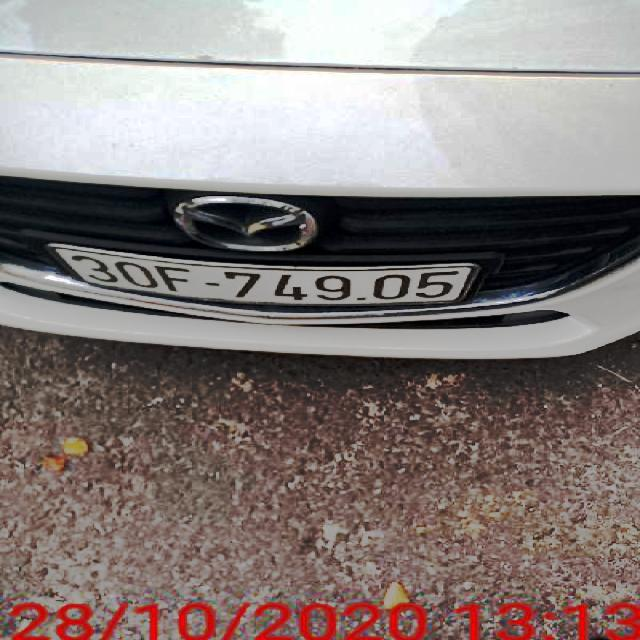license_plate: (47, 244, 472, 312)
